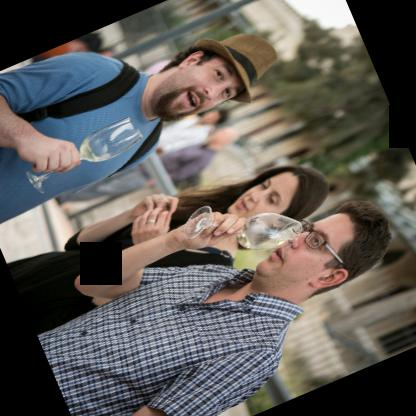backpack: (16, 61, 163, 177)
